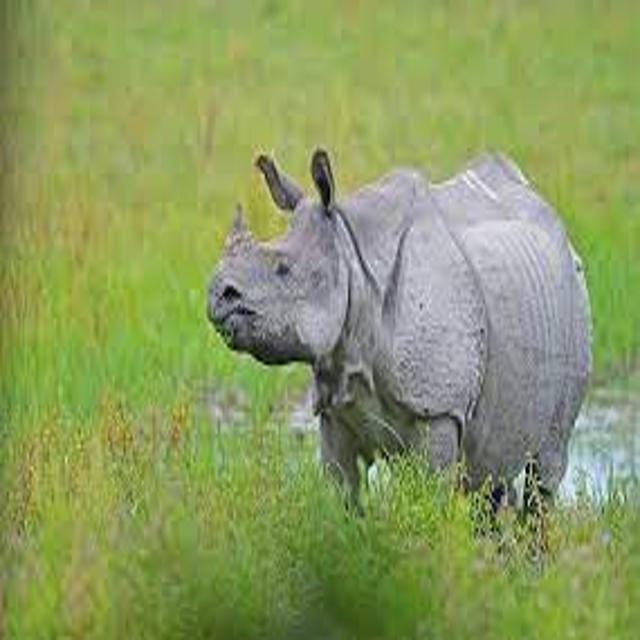Rinoceros: (147, 144, 622, 571)
